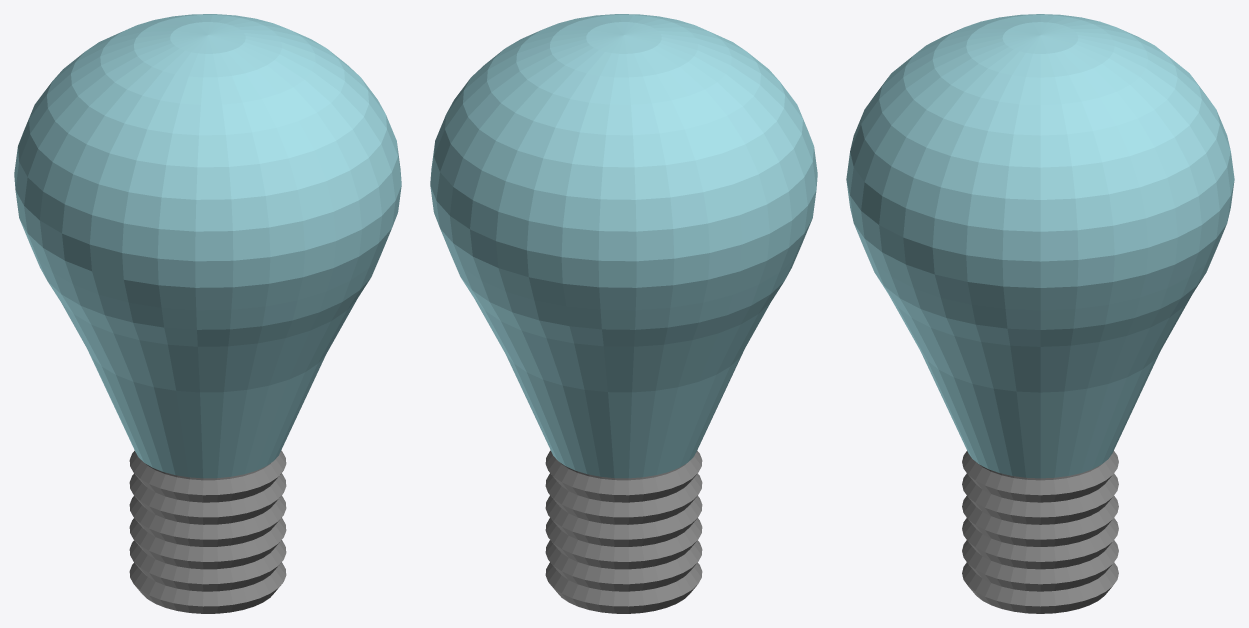
Rendered from off bulb.gltf.
3 views of the same model, side by side, from view 1: azimuth 30°, elevation 25°; view 2: azimuth 150°, elevation 25°; view 3: azimuth 270°, elevation 25° (orthographic).
Visible parts, largest first — view 1: Sphere; view 2: Sphere; view 3: Sphere.
Part boxes in pixels (box(x1,y1,x2,y2)): Sphere: box(14, 14, 401, 613); Sphere: box(430, 14, 817, 613); Sphere: box(846, 14, 1234, 613).
Size of the model in its own units: 5.58 by 9.14 by 5.58.
